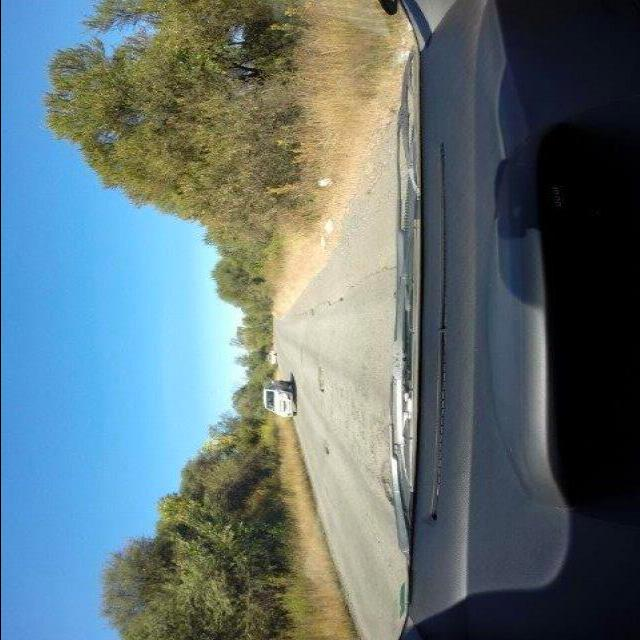lubang: (373, 454, 394, 510), (310, 362, 326, 397), (316, 437, 332, 462)
